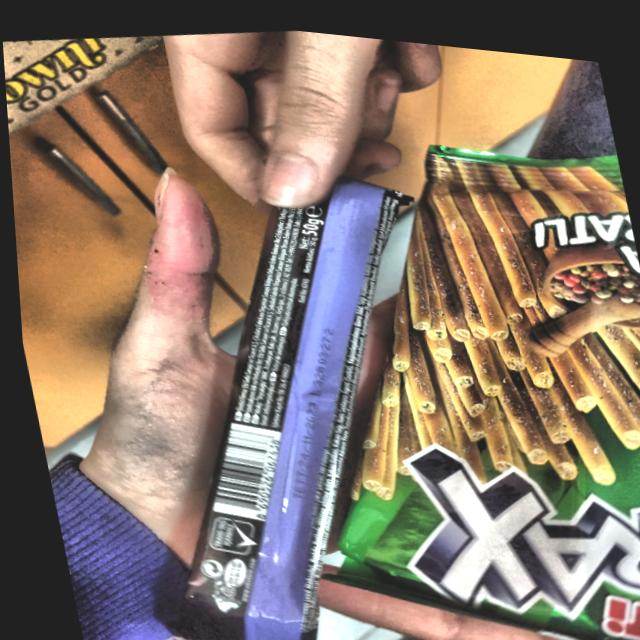Plastic: (98, 121, 518, 640), (246, 118, 640, 640)
